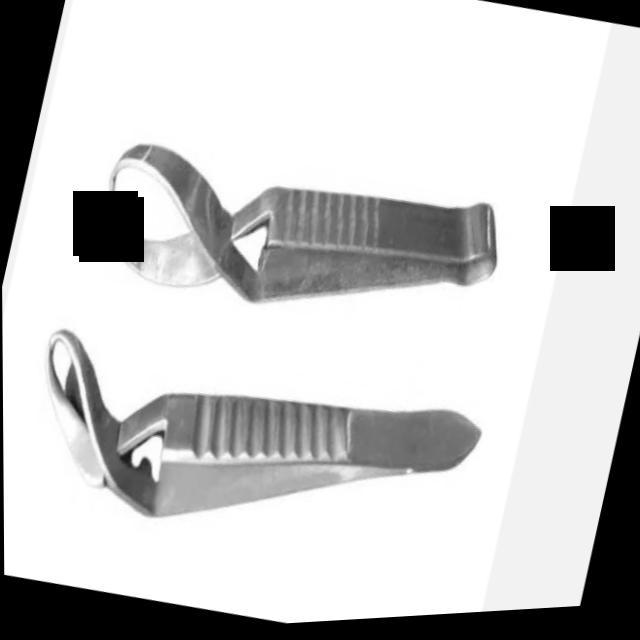Doyen Cross Action Towel Clamp: (73, 78, 526, 376)
